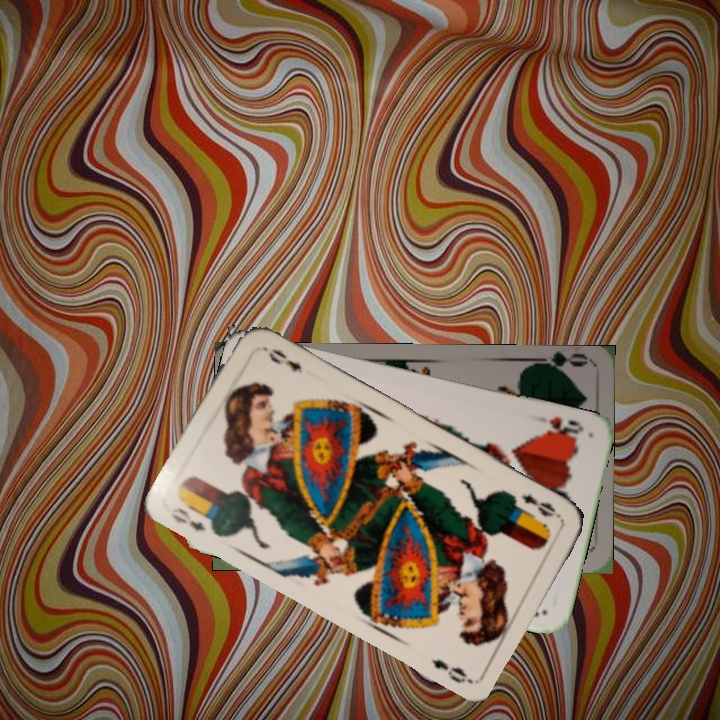EO: (166, 503, 208, 534), (517, 490, 558, 520)
GO: (529, 352, 589, 379)
HO: (537, 413, 586, 443)
